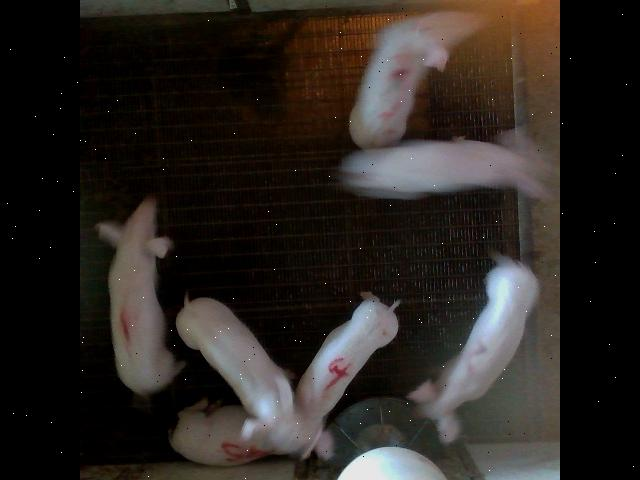pig-1: (109, 196, 184, 395)
pig-2: (408, 256, 538, 441)
pig-3: (350, 11, 483, 148)
pig-4: (295, 291, 399, 424)
pig-5: (169, 398, 271, 464)
